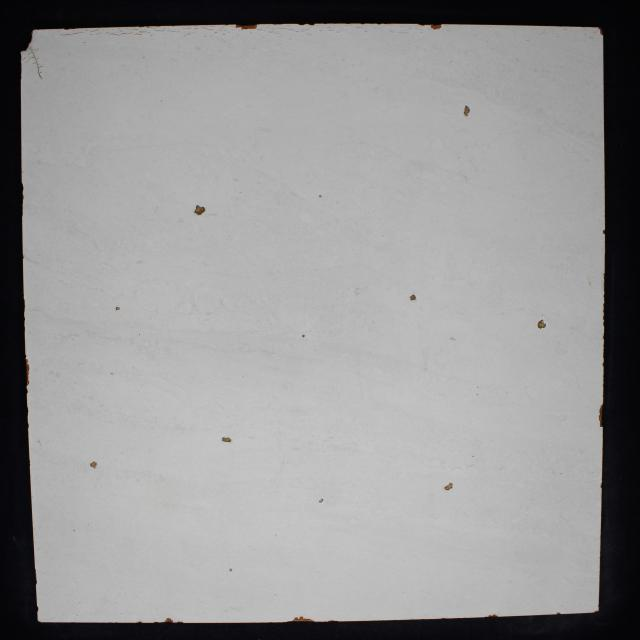edge-chipping: (20, 29, 34, 52), (598, 404, 604, 428), (25, 358, 30, 386), (241, 24, 258, 30), (430, 24, 442, 30), (292, 616, 304, 622), (22, 182, 24, 217), (598, 27, 604, 36), (165, 617, 173, 623), (304, 618, 314, 622), (417, 23, 425, 27), (35, 569, 37, 585), (488, 614, 498, 617), (297, 23, 306, 26), (307, 23, 315, 26), (328, 620, 339, 622), (235, 25, 240, 28), (602, 230, 605, 234), (556, 612, 561, 614)
hole: (193, 204, 206, 216), (537, 319, 546, 329), (463, 105, 470, 117), (444, 482, 454, 490), (90, 461, 98, 469), (222, 437, 232, 442), (409, 294, 416, 301), (318, 498, 324, 503), (115, 306, 120, 310), (229, 568, 233, 572), (302, 334, 305, 338), (319, 194, 322, 198)
line: (26, 52, 44, 80), (108, 32, 142, 36)
